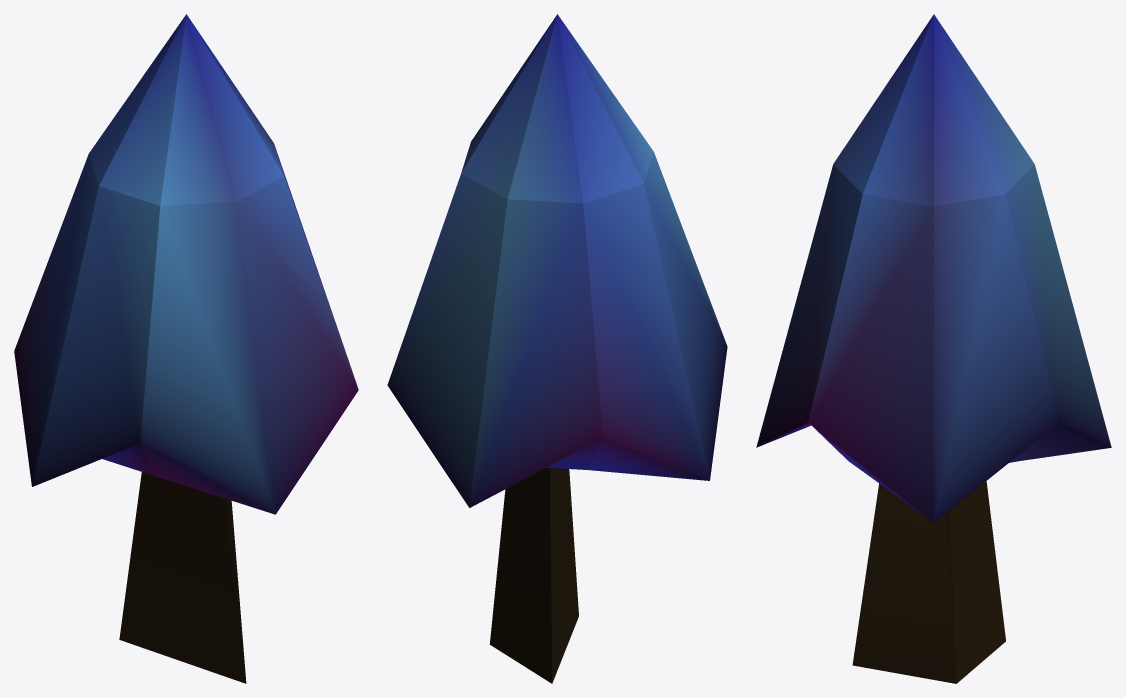
Rendered from tree.obj.
3 renders of one model, left to right at view 1: azimuth 30°, elevation 25°; view 2: azimuth 150°, elevation 25°; view 3: azimuth 270°, elevation 25°, orthographic.
Parts seen in each view (by area): view 1: tree.002; view 2: tree.002; view 3: tree.002.
Part boxes in pixels (box(x1,y1,x2,y2)): tree.002: box(14, 14, 358, 683); tree.002: box(387, 14, 727, 683); tree.002: box(756, 14, 1111, 683).
Size of the model in its own units: 8.26 by 16.48 by 8.26.
